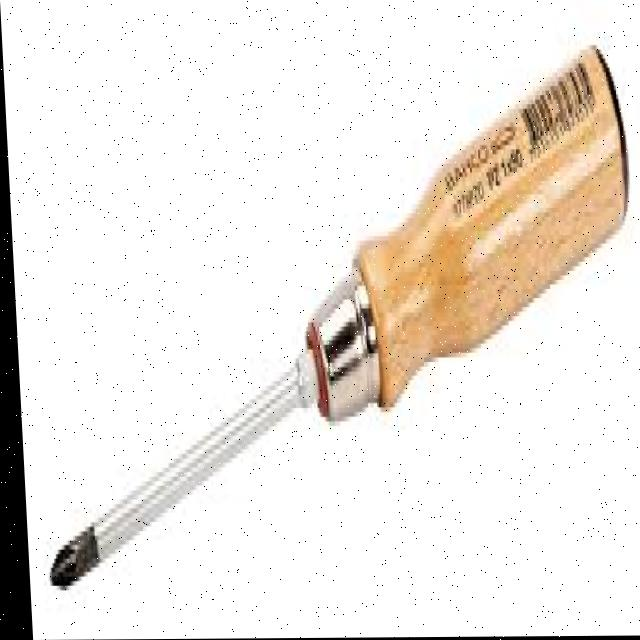Screwdriver: (45, 46, 629, 586)
